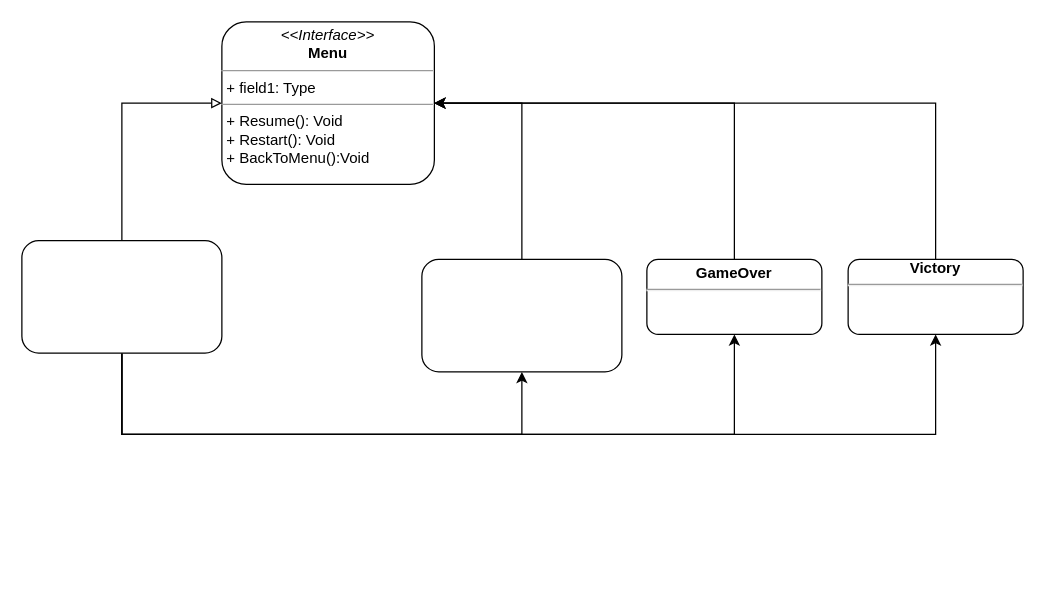
This 1045x611 diagram has some shape labels left out. Each missing label, with the centre of its shape:
"MenuMediator + field: Type + method(): Type" belongs at (121,296).
"Pause + field: Type + method(): Type" belongs at (521,315).
